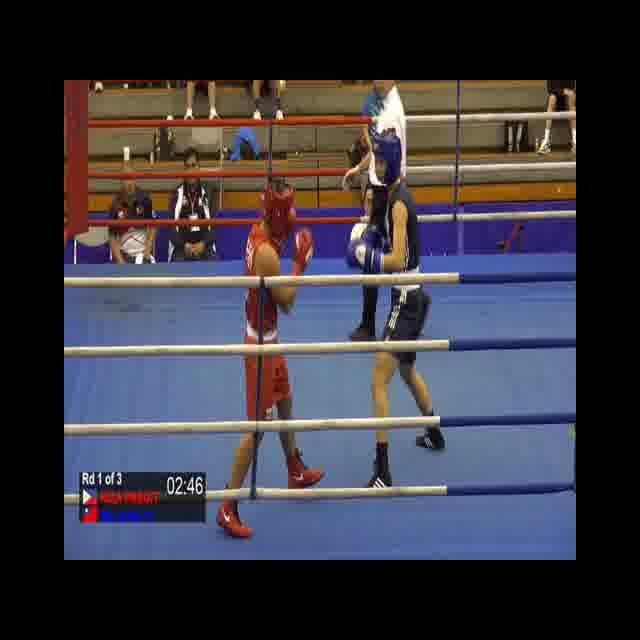blue-player: (340, 128, 448, 498), (342, 80, 409, 351)
red-player: (215, 178, 329, 541)
